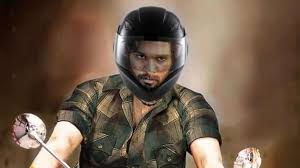com_capacete: (105, 5, 196, 107)
